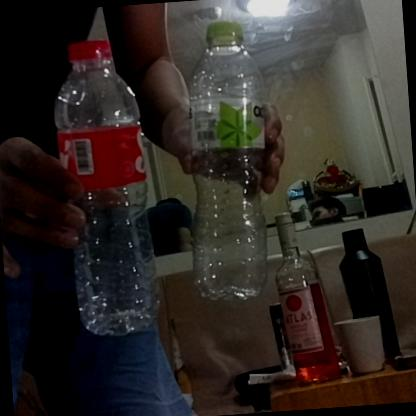plastic_bottles: (50, 32, 166, 340), (174, 20, 280, 302)
